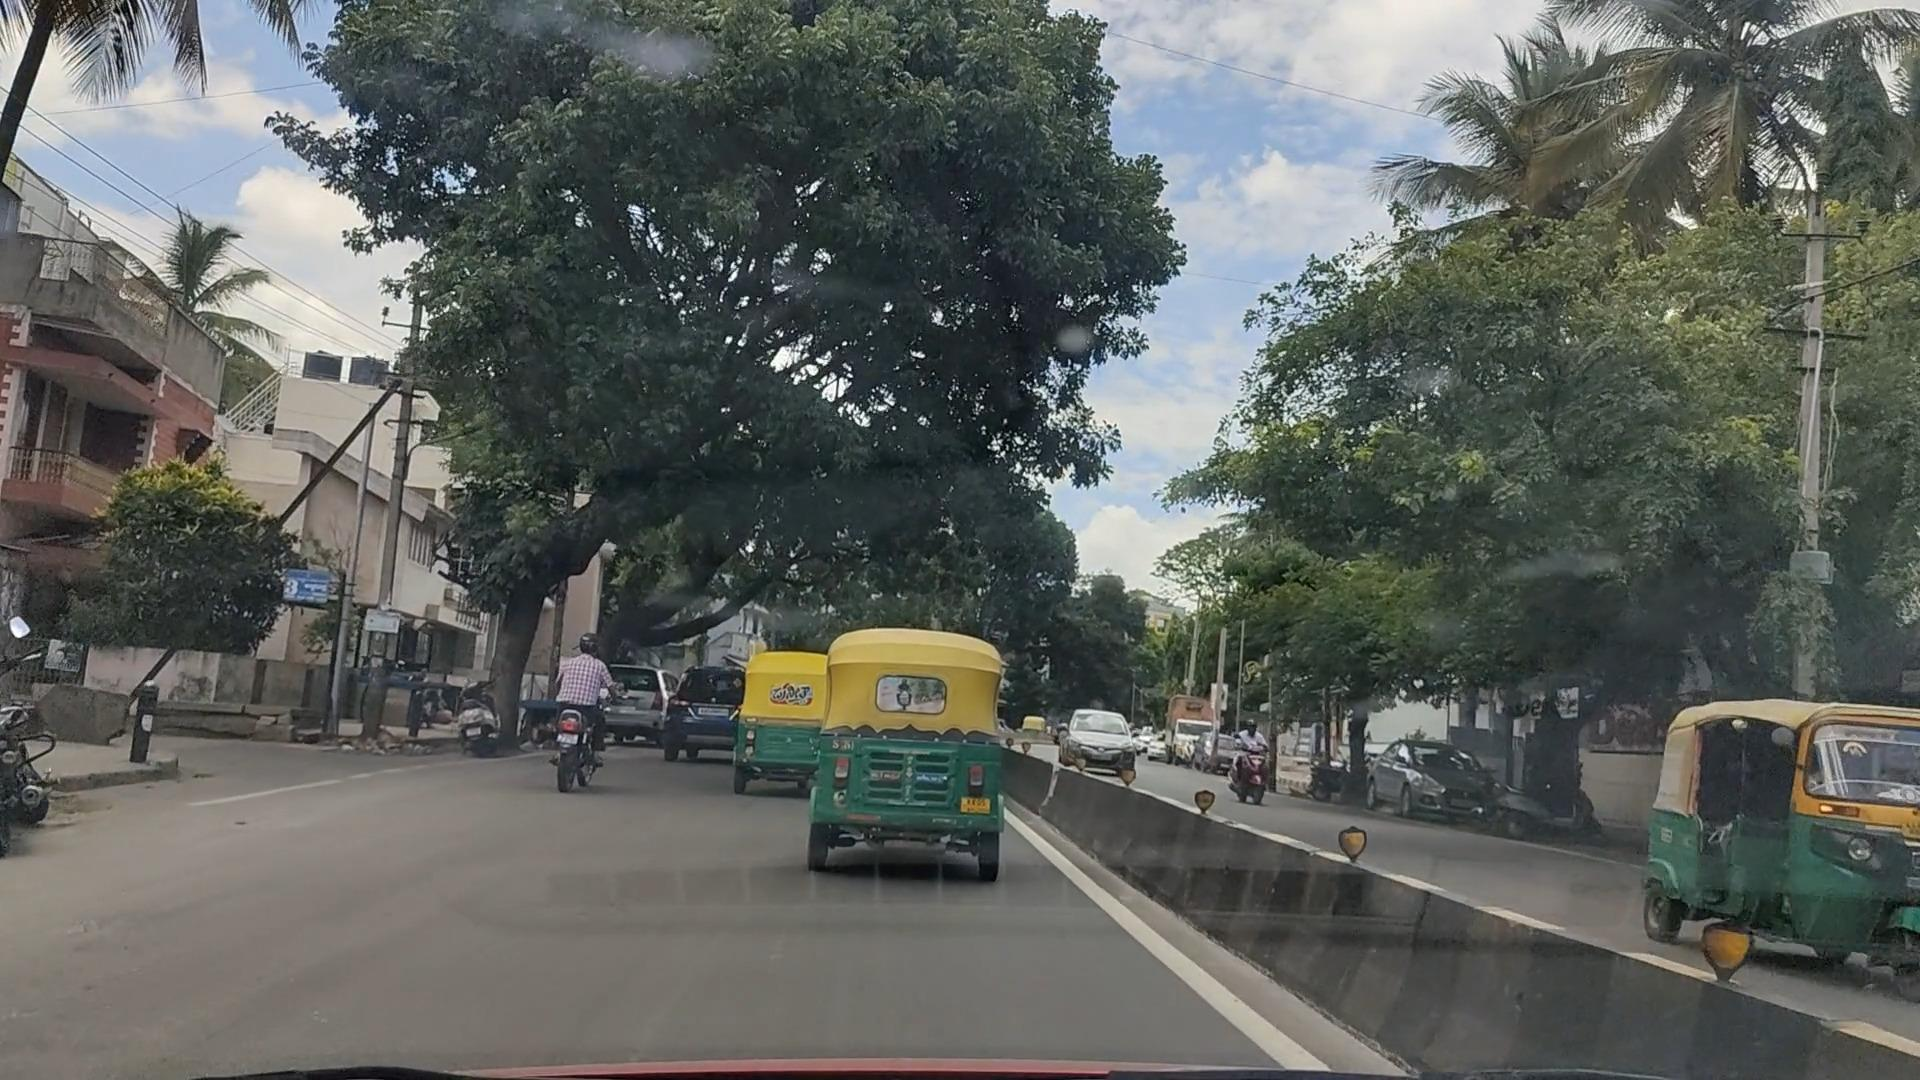LMV: (807, 647, 1029, 901), (700, 622, 827, 782), (535, 636, 624, 798)
RoadDamages: (30, 898, 225, 1056)
